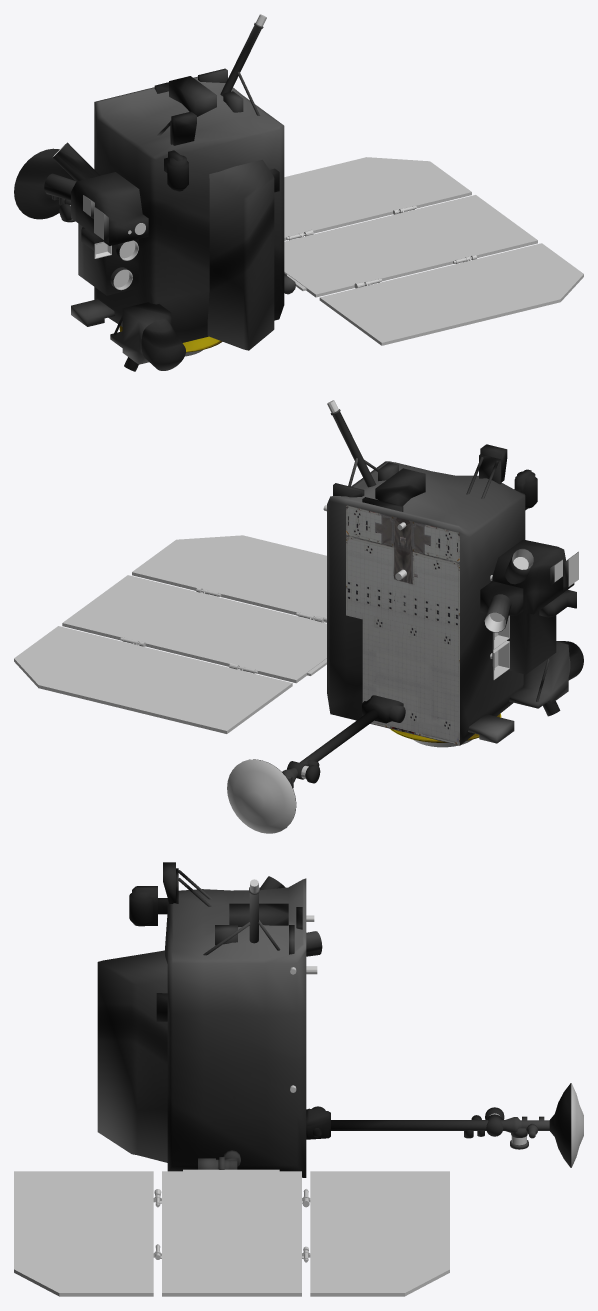
The model's file is LRO_35.fbx.
3 renders of one model, top to bottom at view 1: azimuth 30°, elevation 25°; view 2: azimuth 150°, elevation 25°; view 3: azimuth 270°, elevation 25°, orthographic. The views are drawn at different scales.
Parts seen in each view (by area): view 1: foil_silver, tex, dark_black; view 2: tex, foil_silver, panel, foil_silver_dish, dark_black; view 3: foil_silver, tex, foil_silver_dish.
Part boxes in pixels (x1,y1,x2,y2): foil_silver: (14, 22, 295, 371); tex: (70, 14, 583, 356); dark_black: (53, 143, 138, 290); tex: (14, 400, 578, 778); foil_silver: (249, 409, 583, 827); panel: (346, 505, 459, 745); foil_silver_dish: (227, 759, 295, 833); dark_black: (484, 549, 533, 668); foil_silver: (97, 862, 571, 1177); tex: (14, 879, 526, 1296); foil_silver_dish: (571, 1083, 583, 1167).
Size of the model in its own units: 545 by 366 by 550.
